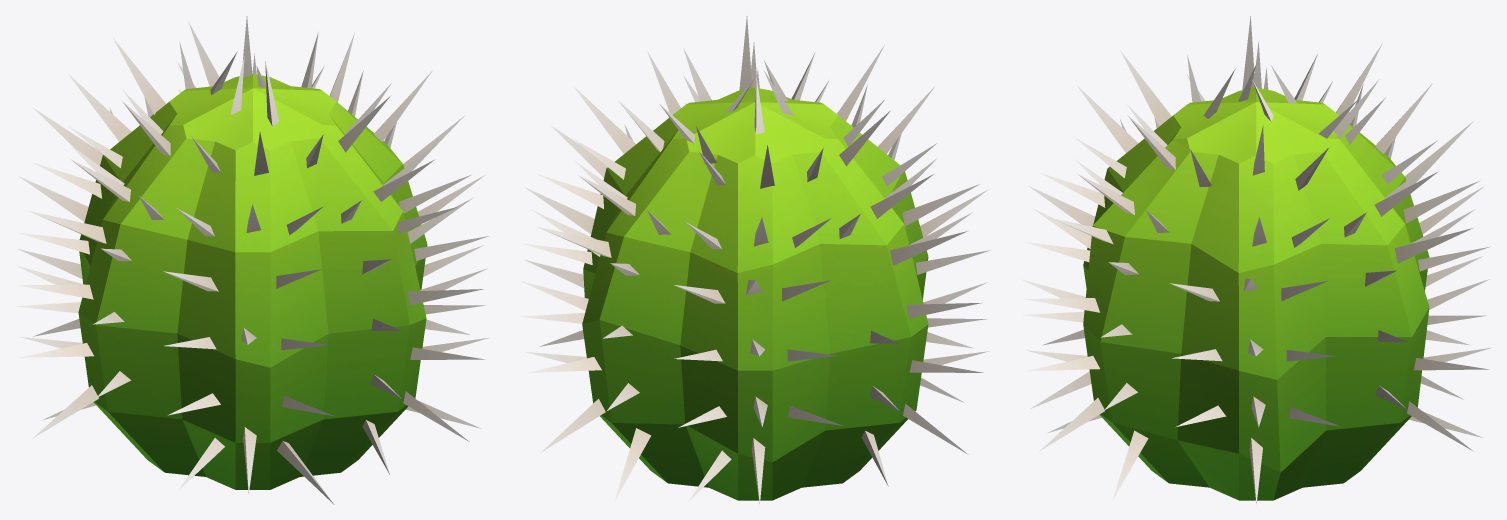
3 renders of one model, left to right at view 1: azimuth 30°, elevation 25°; view 2: azimuth 150°, elevation 25°; view 3: azimuth 270°, elevation 25°, orthographic.
Parts seen in each view (by area): view 1: CactusMini; view 2: CactusMini; view 3: CactusMini.
Part boxes in pixels (x1,y1,x2,y2): CactusMini: [15, 16, 489, 504]; CactusMini: [520, 16, 989, 505]; CactusMini: [1021, 16, 1491, 505].
Size of the model in its own units: 10 by 7.97 by 8.84.
1 material, 1 textured.
